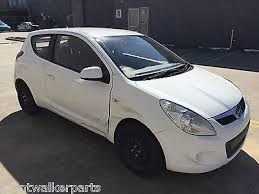Dent: (119, 106, 147, 121), (89, 115, 112, 133)
